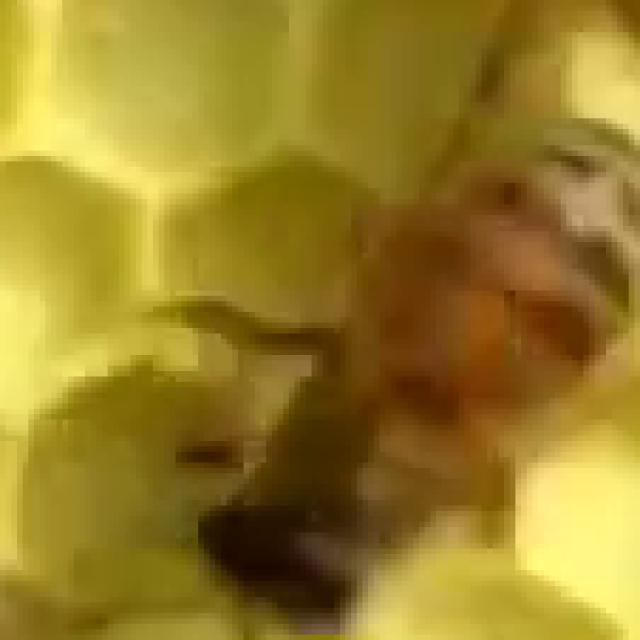honeybee: (248, 87, 603, 597)
